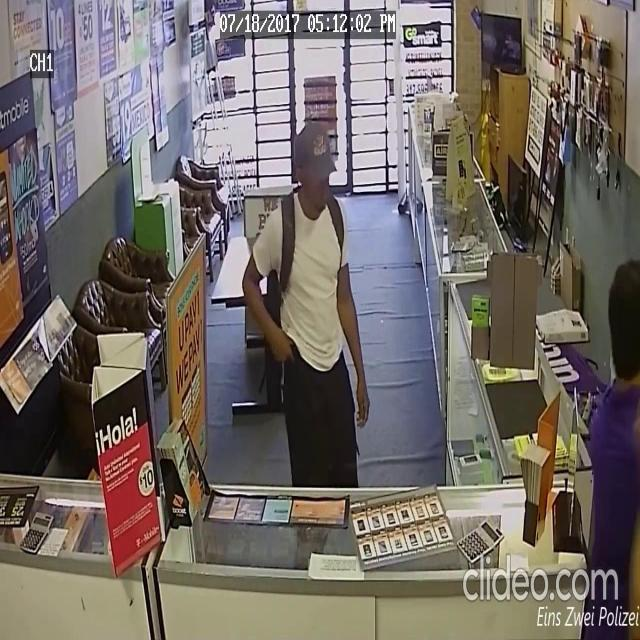gun: (242, 118, 371, 486), (278, 333, 304, 398)
